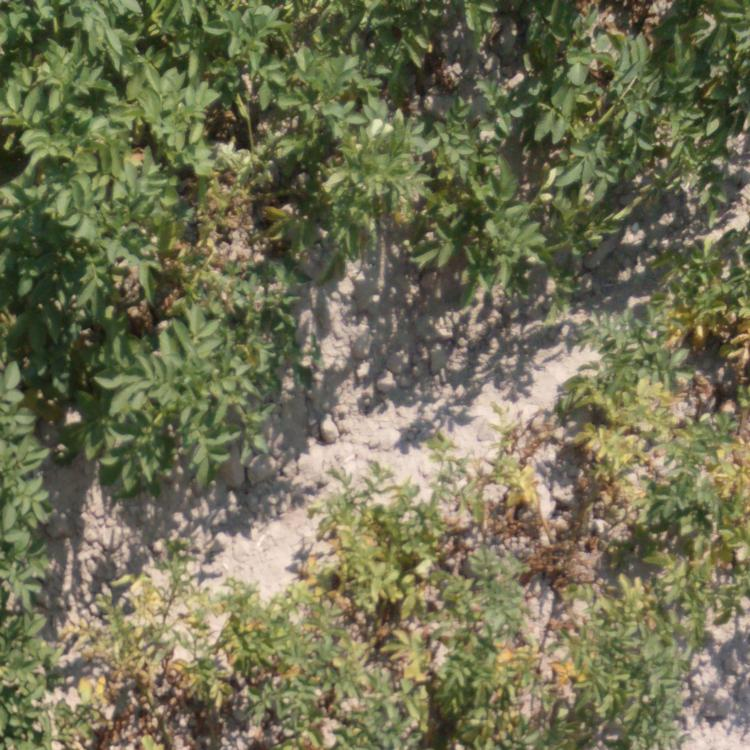healthy: (1, 3, 280, 499), (284, 6, 538, 273), (528, 4, 745, 191)
stressed: (489, 412, 686, 750), (1, 569, 303, 750), (312, 480, 472, 750), (691, 247, 750, 615), (559, 298, 683, 413)
